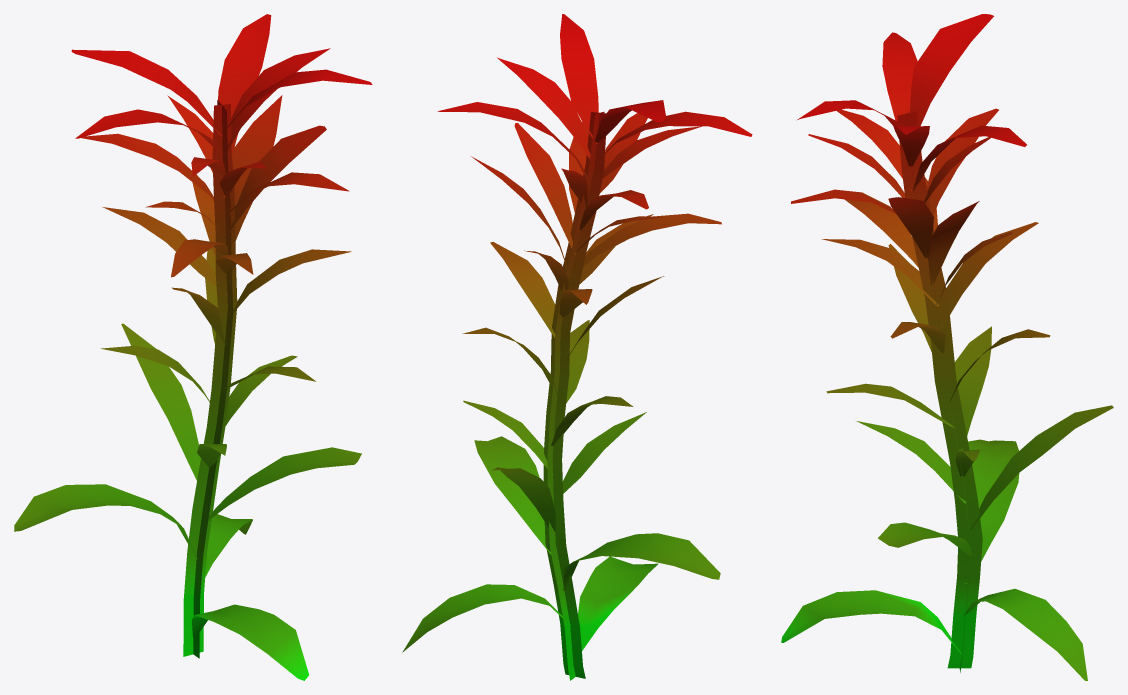
The model's file is Goldenrods_LOD3_Var8.fbx.
The picture shows the model from 3 angles, left to right: view 1: azimuth 30°, elevation 25°; view 2: azimuth 150°, elevation 25°; view 3: azimuth 270°, elevation 25°; orthographic projection. The views are drawn at different scales.
Parts seen in each view (by area): view 1: _6fxo_Var8_LOD3; view 2: _6fxo_Var8_LOD3; view 3: _6fxo_Var8_LOD3.
Boxes of the visible parts, left/top/right/bottom form: _6fxo_Var8_LOD3: left=14, top=14, right=372, bottom=680; _6fxo_Var8_LOD3: left=402, top=14, right=752, bottom=680; _6fxo_Var8_LOD3: left=781, top=14, right=1113, bottom=680.
Size of the model in its own units: 32.47 by 63.51 by 31.72.
